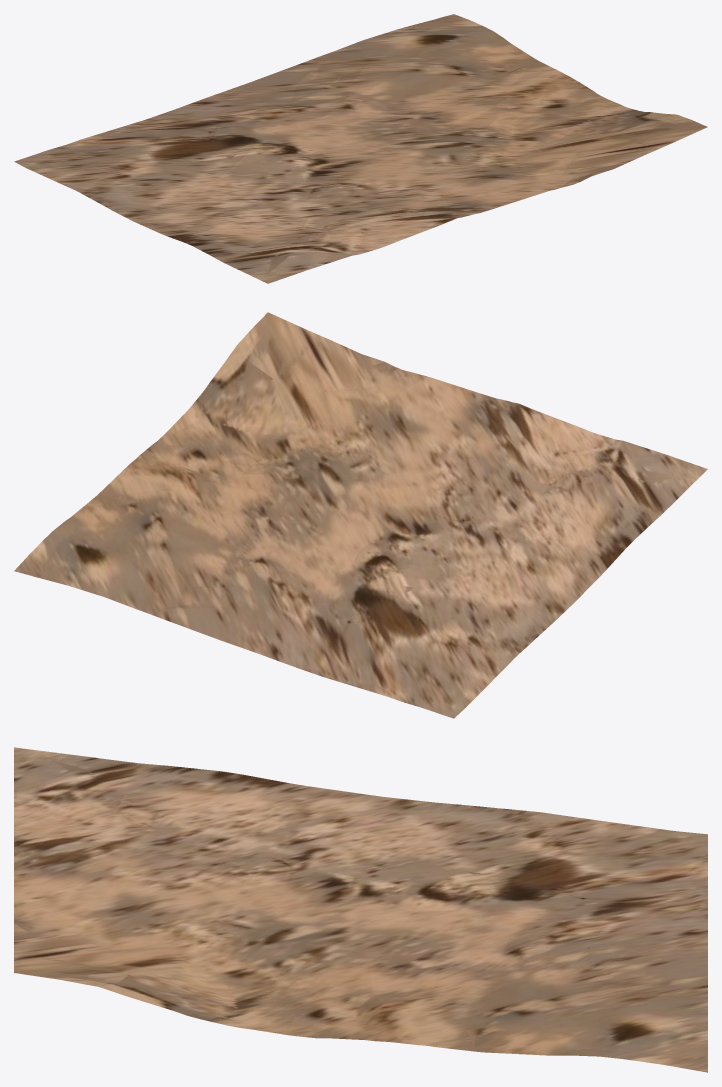
3 views of the same model, one above another, from view 1: azimuth 30°, elevation 25°; view 2: azimuth 150°, elevation 25°; view 3: azimuth 270°, elevation 25° (orthographic). The views are drawn at different scales.
Size of the model in its own units: 4.18 by 1.03 by 4.18.
2 materials, 2 textured.
